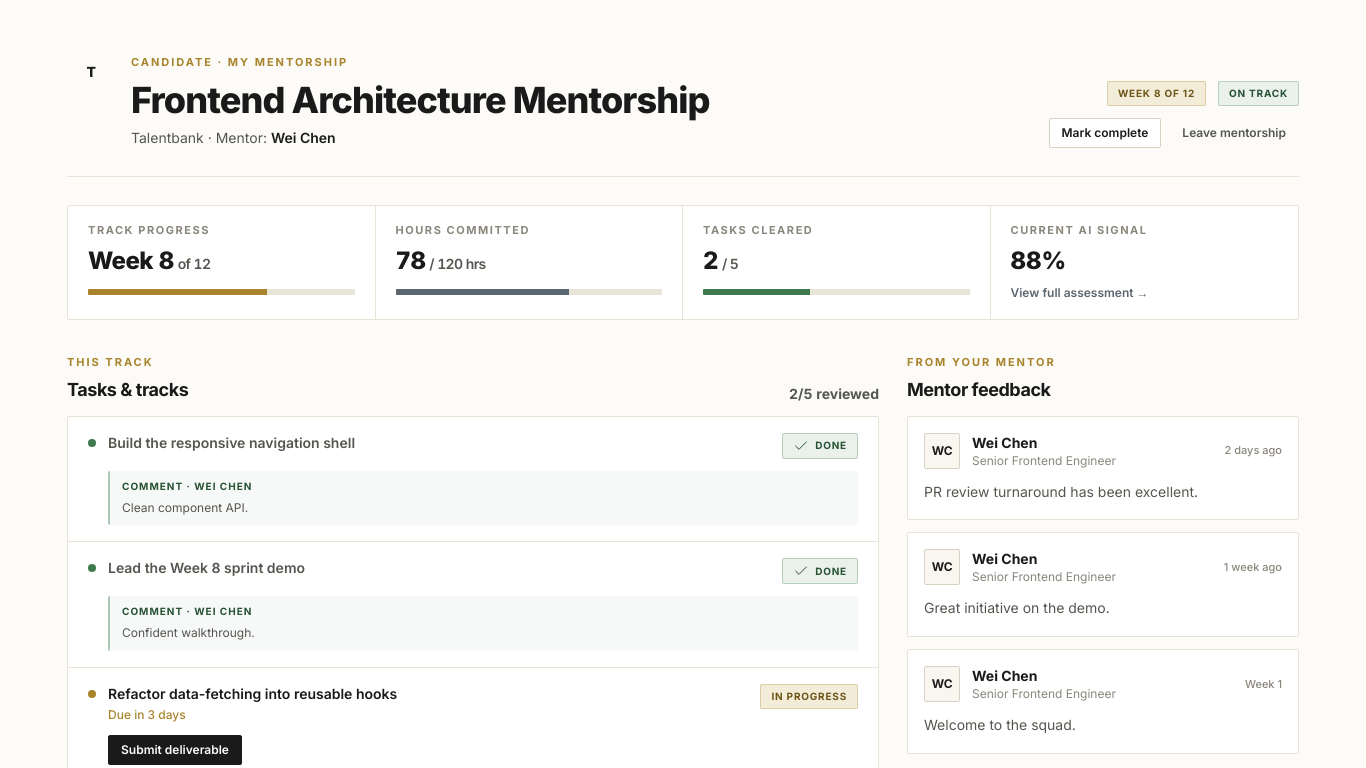
Scenario: StudentMentorship › dismisses the banner
Click the button "Submit deliverable".
click(175, 750)  # box [108,735,242,765]
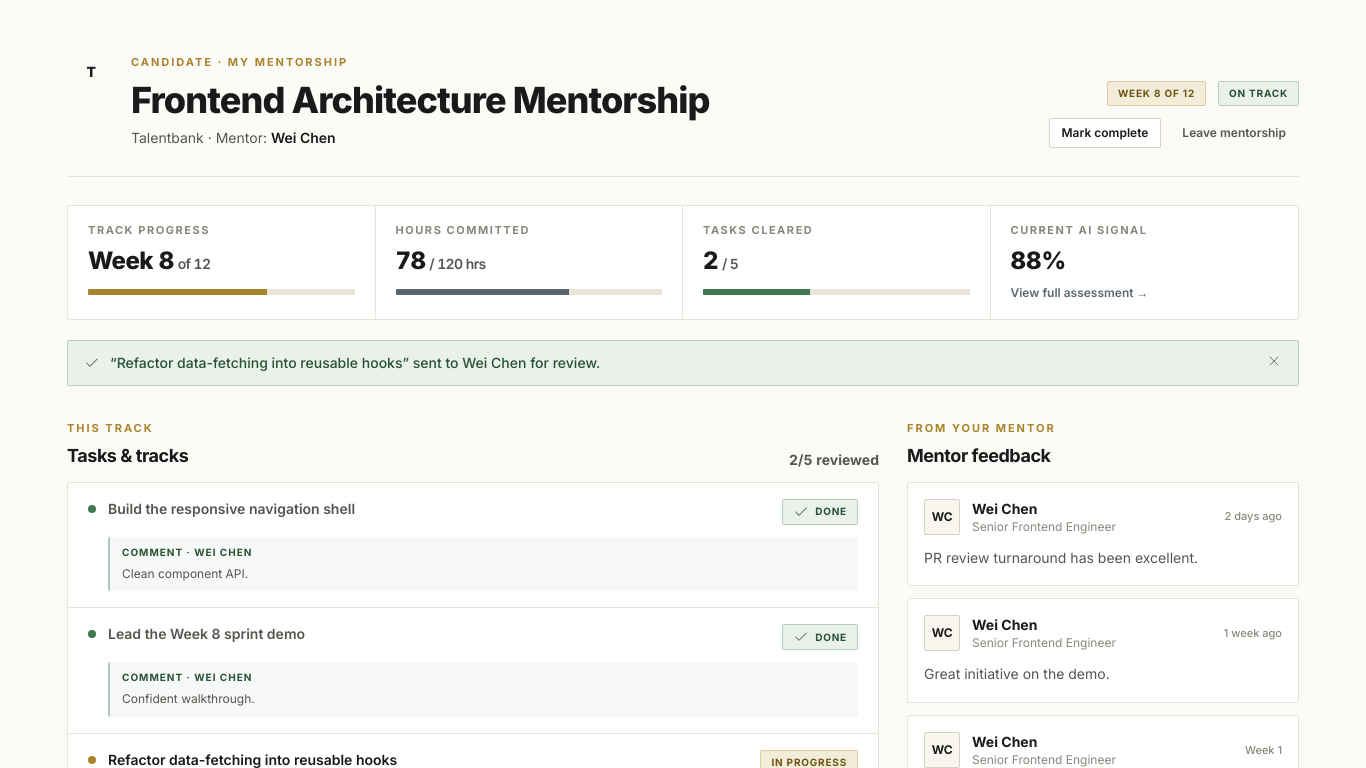
Result: the message "“Refactor data-fetching into reusable hooks” sent to Wei Chen for review." is shown at [67,340,1299,386]
Click the button named "dismiss notification".
click(1274, 360)  # box [1266,352,1282,368]
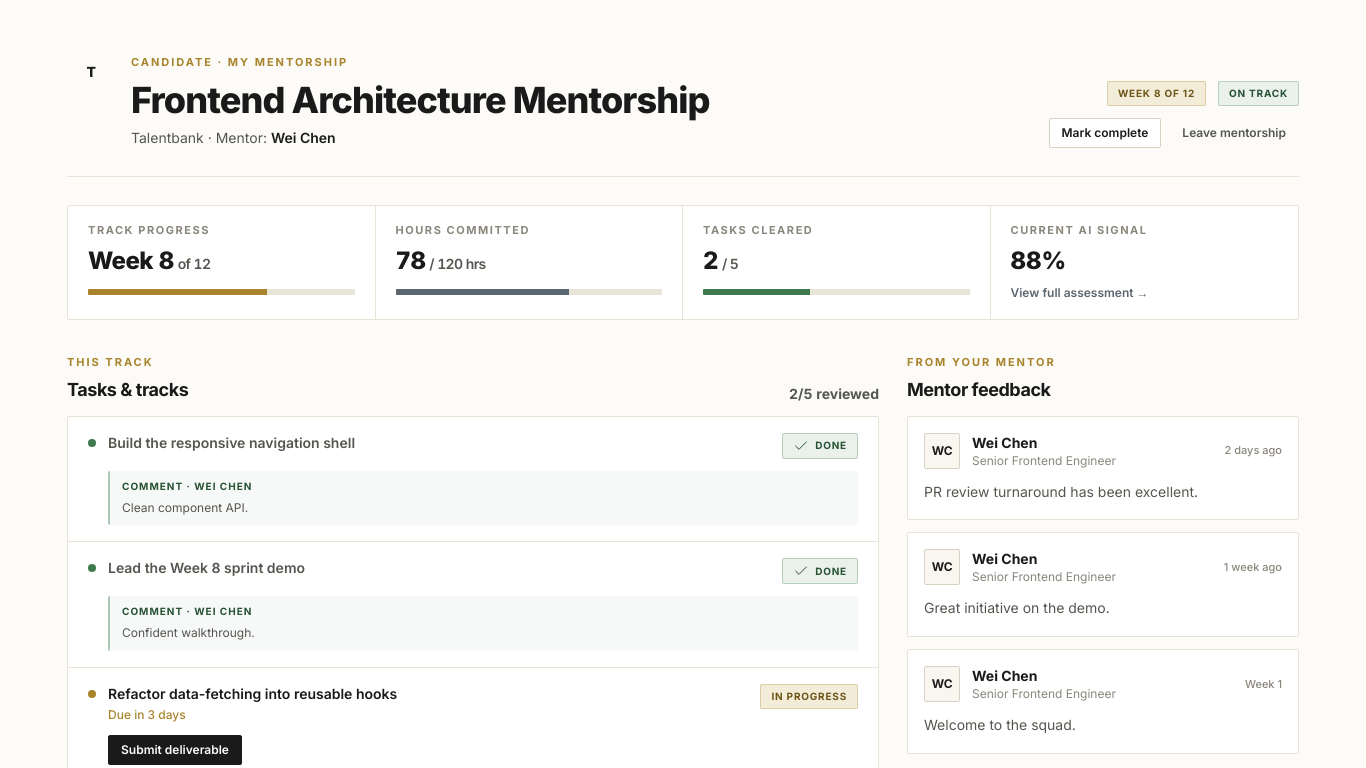
Result: the message "“Refactor data-fetching into reusable hooks” sent to Wei Chen for review." is gone
